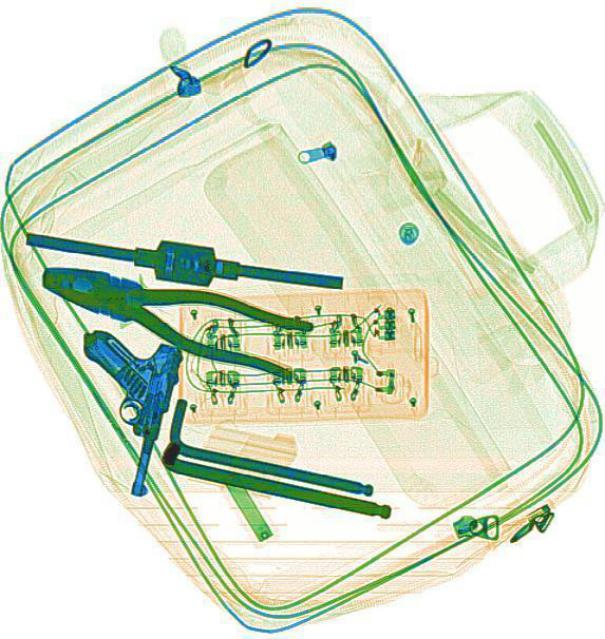Gun: (45, 322, 186, 499)
Pliers: (31, 245, 314, 382)
